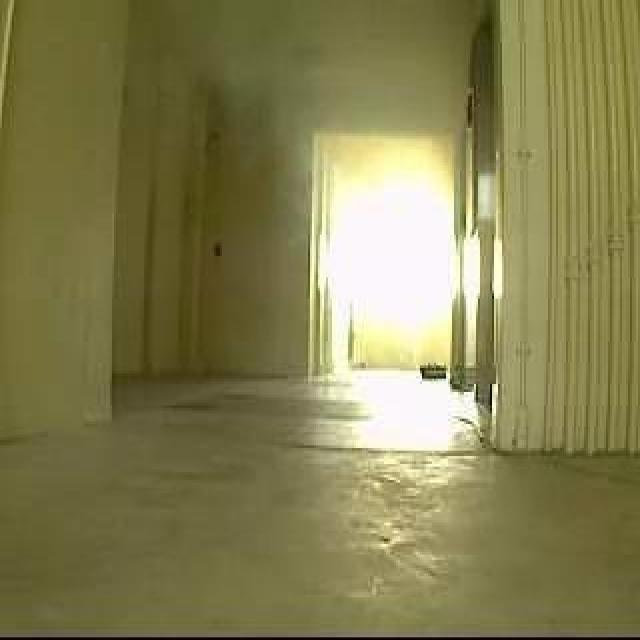Smoke: (200, 45, 362, 192)
